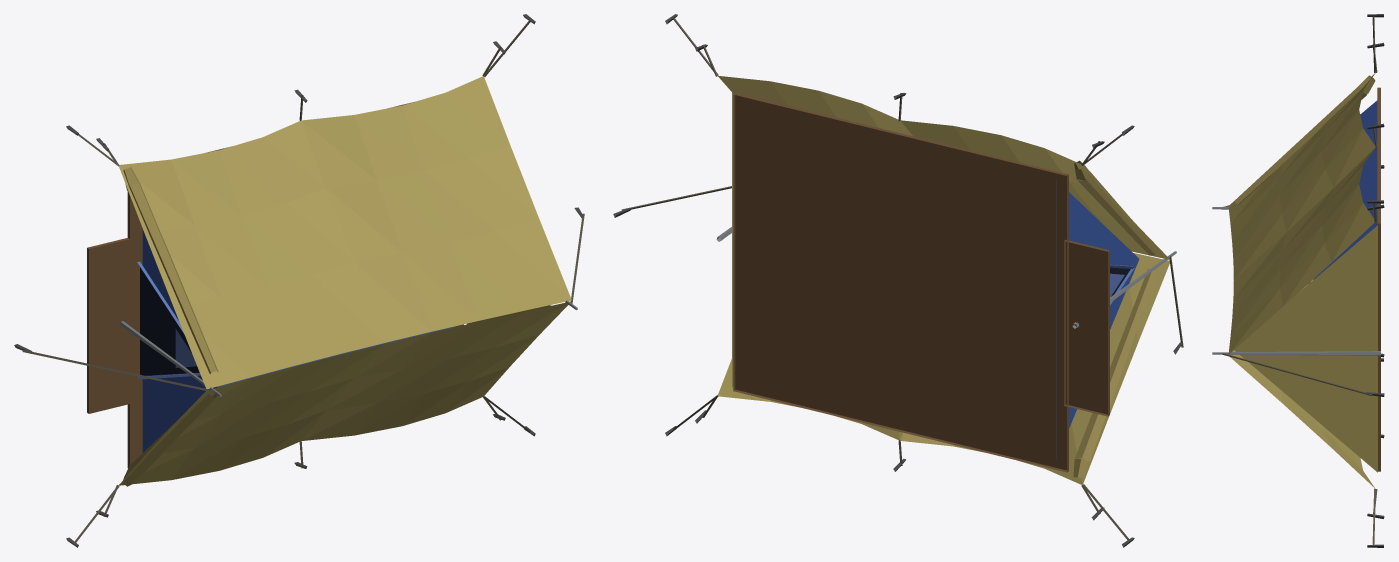
File: yellow-24.obj
The picture shows the model from 3 angles, left to right: view 1: azimuth 30°, elevation 25°; view 2: azimuth 150°, elevation 25°; view 3: azimuth 270°, elevation 25°; orthographic projection. The views are drawn at different scales.
Size of the model in its own units: 3.58 by 2.52 by 1.13.
